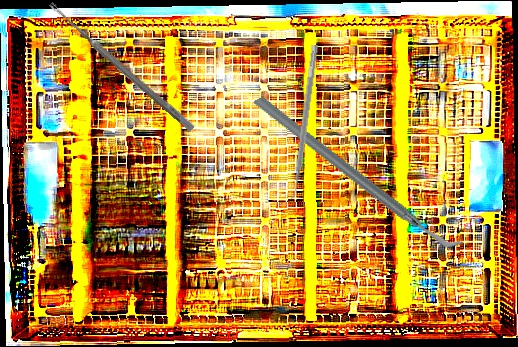Chopper: (251, 44, 466, 300)
Spatula Surgical: (285, 43, 319, 201)
Surgical Spoon: (47, 1, 196, 132)
